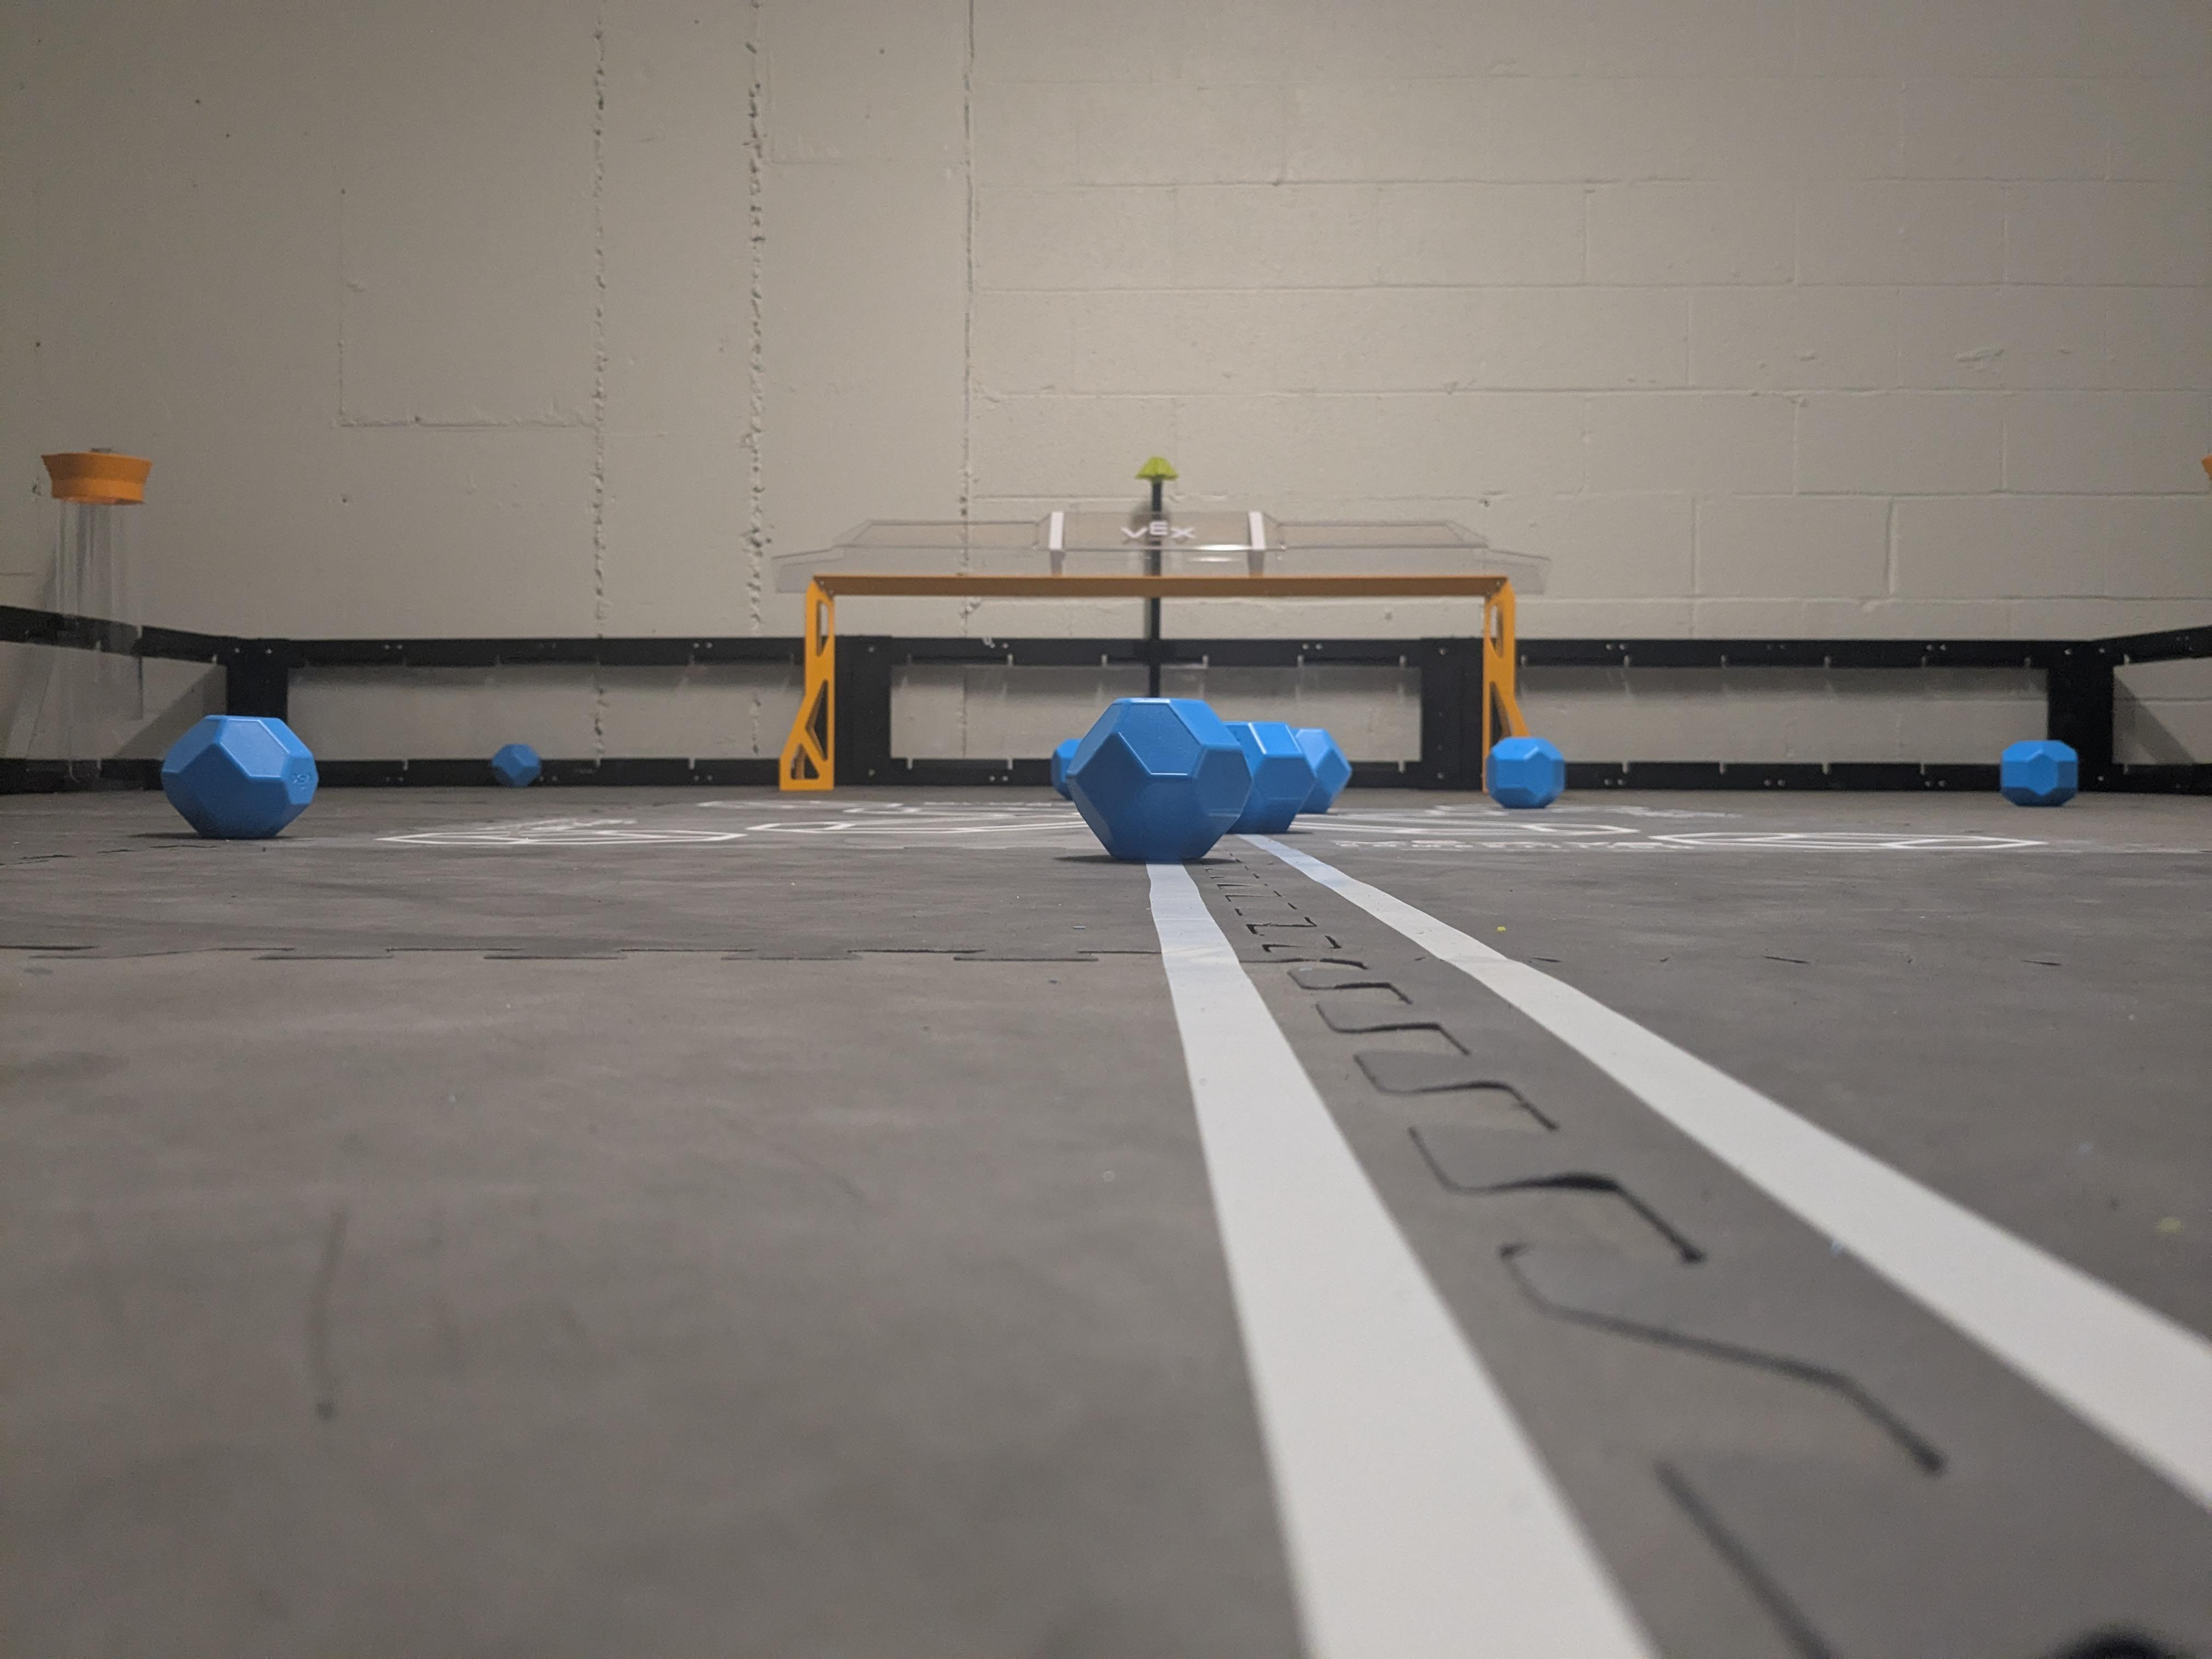Vex-Pieces-BLUE: (1054, 699, 1348, 857), (165, 716, 314, 838), (1482, 739, 1569, 805), (1998, 741, 2080, 805), (489, 744, 540, 786)
